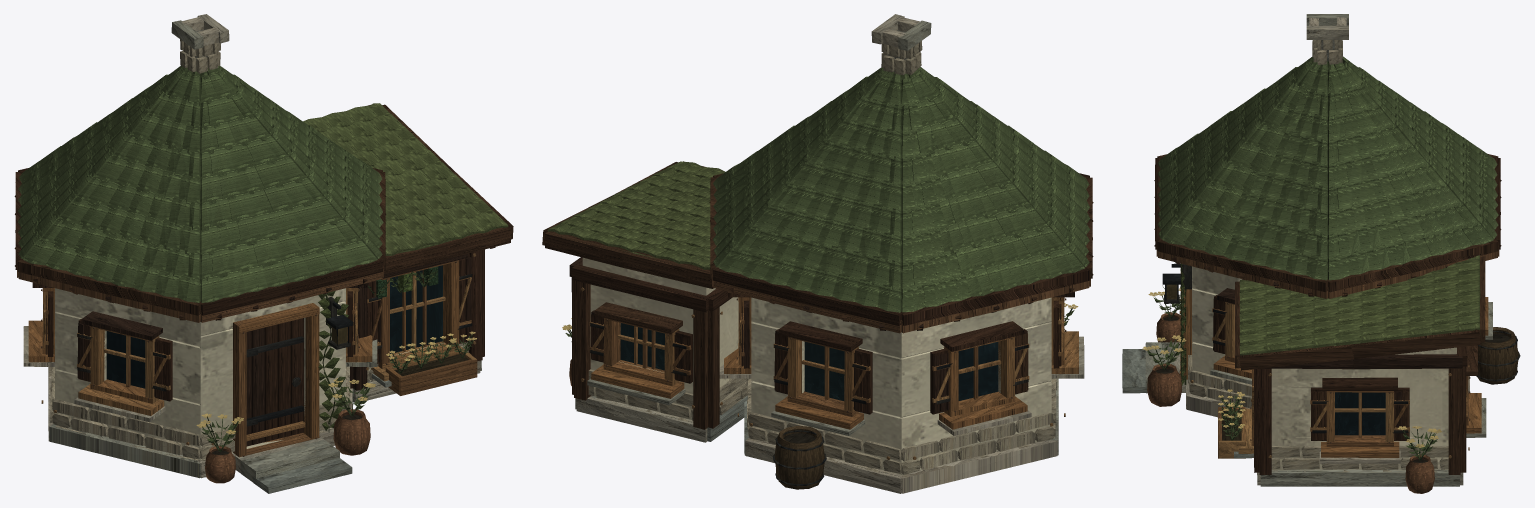
The model's file is 05_herbalist.glb.
The picture shows the model from 3 angles, left to right: view 1: azimuth 30°, elevation 25°; view 2: azimuth 150°, elevation 25°; view 3: azimuth 270°, elevation 25°; orthographic projection. The views are drawn at different scales.
Parts seen in each view (by area): view 1: 05_herbalist; view 2: 05_herbalist; view 3: 05_herbalist.
Boxes of the visible parts, bbox=[...] form: 05_herbalist: bbox=[14, 14, 513, 493]; 05_herbalist: bbox=[542, 14, 1093, 493]; 05_herbalist: bbox=[1122, 14, 1520, 493].
Bounding box in the file's own units: 5.4 × 4.22 × 4.31.
Materials: 8 (8 with a texture image).
